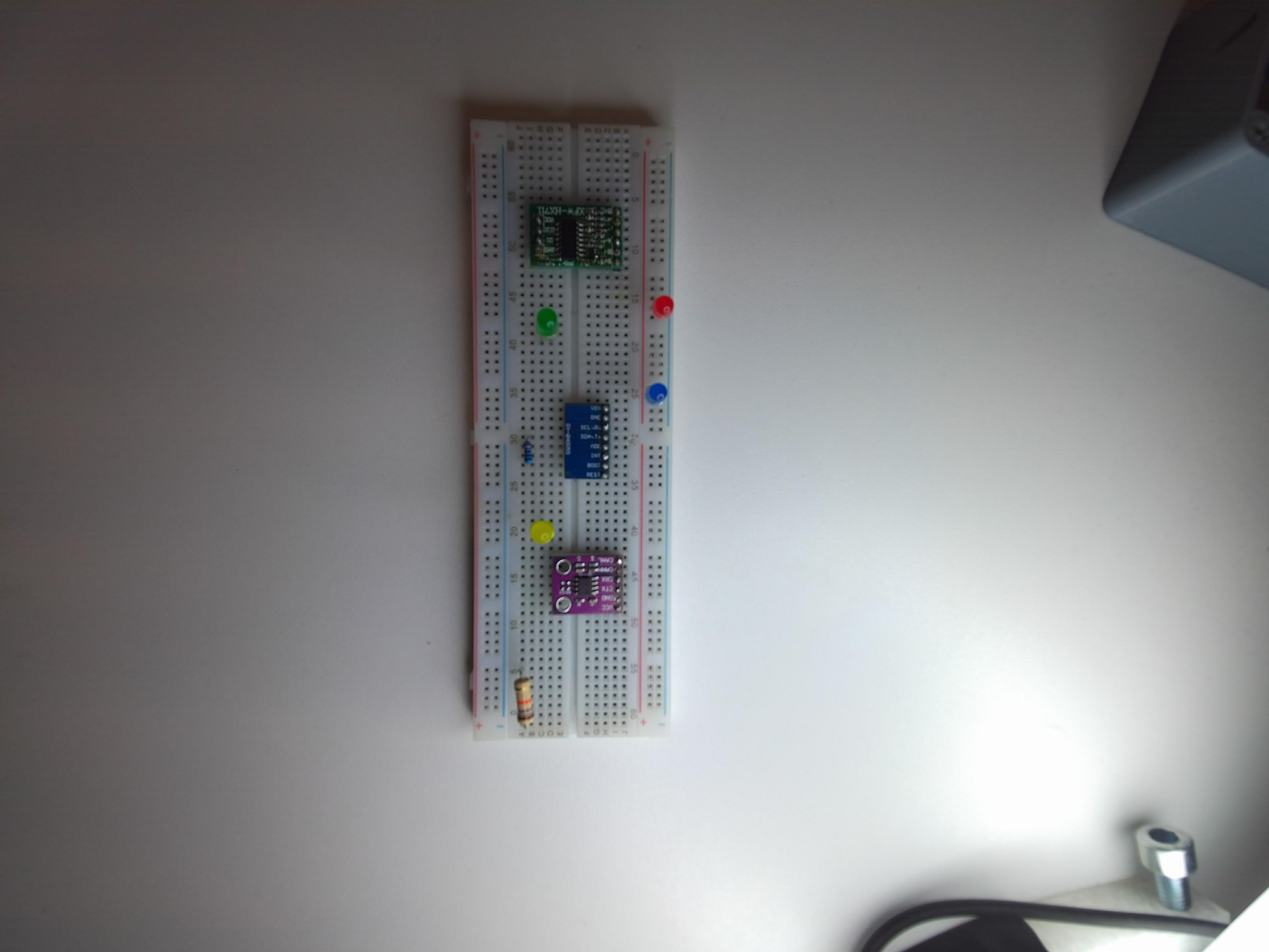base: (462, 112, 677, 743)
blue-board: (559, 398, 612, 481)
blue-led: (642, 381, 670, 410)
green-board: (525, 202, 626, 273)
green-led: (531, 304, 561, 339)
purple-board: (548, 547, 625, 615)
red-led: (650, 293, 676, 320)
resistor-big: (512, 675, 536, 724)
resistor-small: (522, 440, 535, 466)
yellow-led: (531, 518, 556, 546)
